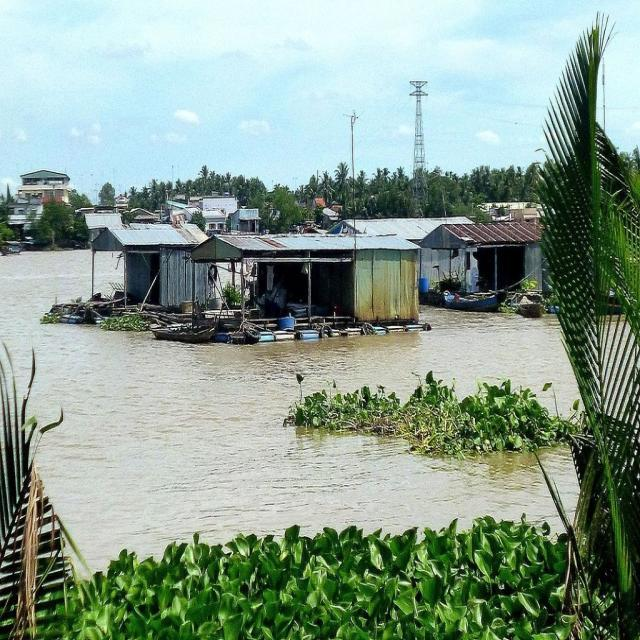Hyacinth: (83, 522, 627, 640), (288, 372, 562, 476), (104, 317, 152, 334)
boat: (146, 320, 209, 342), (447, 294, 501, 315), (508, 295, 550, 322)
